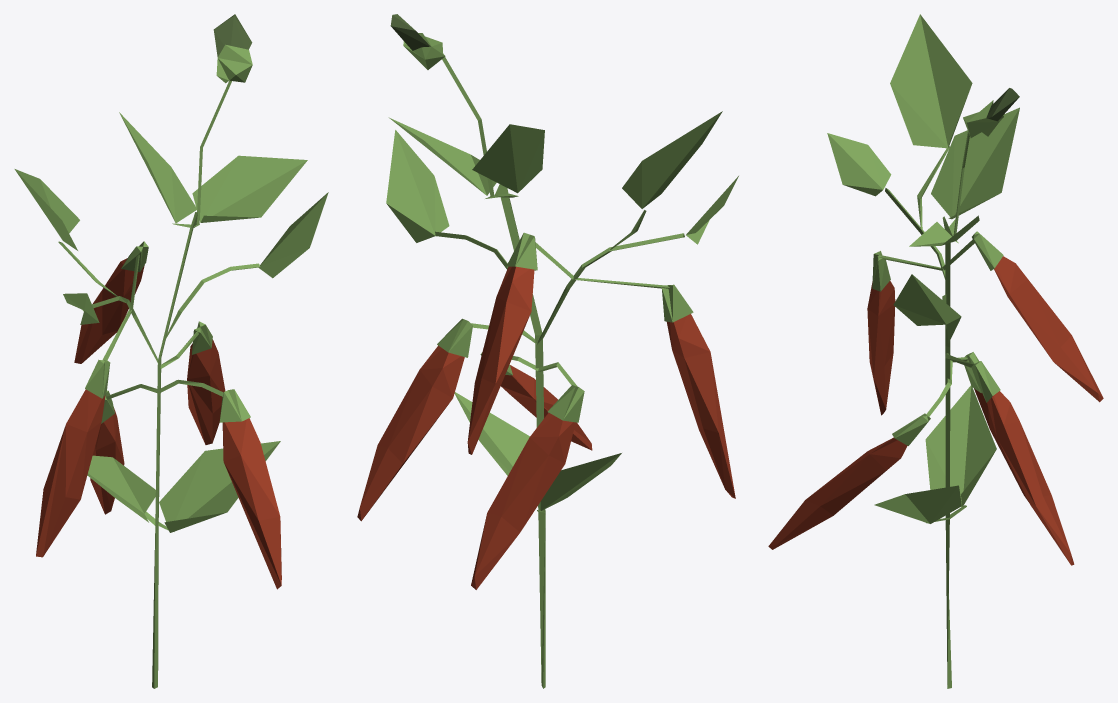
File: Peppers_6.fbx
3 renders of one model, left to right at view 1: azimuth 30°, elevation 25°; view 2: azimuth 150°, elevation 25°; view 3: azimuth 270°, elevation 25°, orthographic. The views are drawn at different scales.
Parts seen in each view (by area): view 1: Peppers_6; view 2: Peppers_6; view 3: Peppers_6.
Part boxes in pixels (left/top/right/bottom): Peppers_6: left=14, top=14, right=328, bottom=688; Peppers_6: left=357, top=14, right=738, bottom=688; Peppers_6: left=768, top=14, right=1103, bottom=688.
Bounding box in the file's own units: 53.22 × 102 × 47.39.
